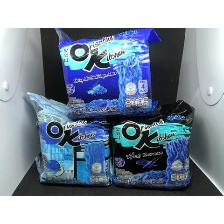snack: (51, 27, 167, 124), (18, 87, 119, 189), (105, 95, 199, 191)
